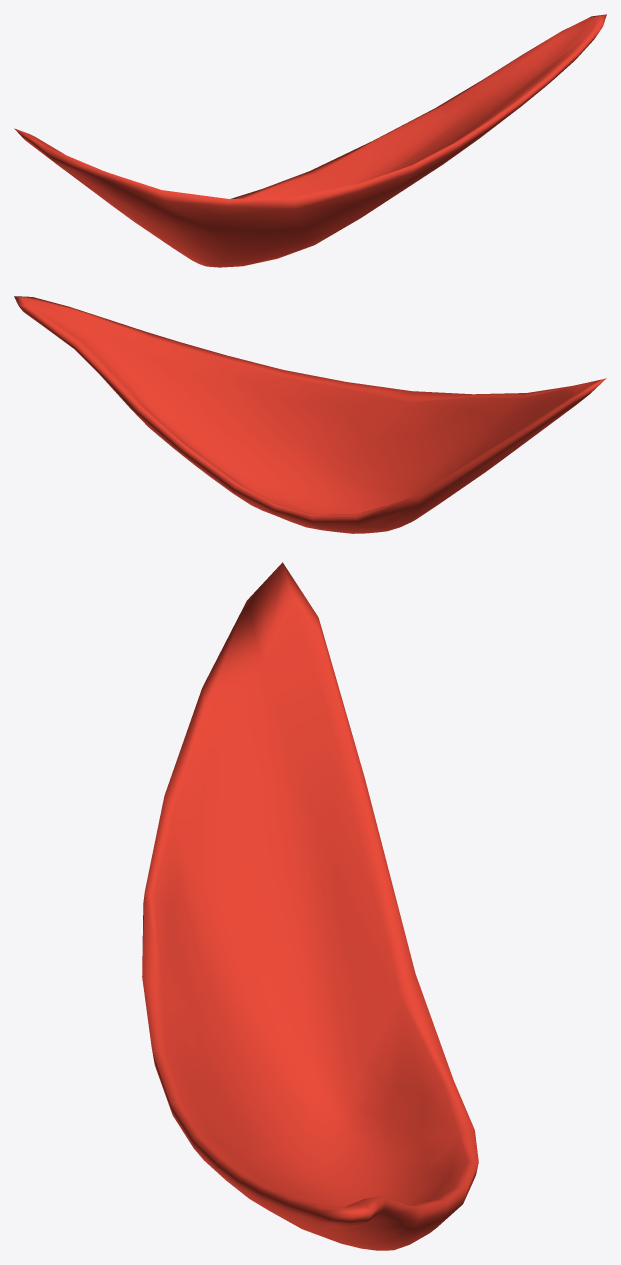
The model's file is Patellar_tendon_apex_patella_right.glb.
The picture shows the model from 3 angles, top to bottom: view 1: azimuth 30°, elevation 25°; view 2: azimuth 150°, elevation 25°; view 3: azimuth 270°, elevation 25°; orthographic projection. The views are drawn at different scales.
Parts seen in each view (by area): view 1: Patellar_tendon_on_apex_of_patella.r_Generated_Mesh_From_X3D; view 2: Patellar_tendon_on_apex_of_patella.r_Generated_Mesh_From_X3D; view 3: Patellar_tendon_on_apex_of_patella.r_Generated_Mesh_From_X3D.
Part boxes in pixels (x1,y1,x2,y2): Patellar_tendon_on_apex_of_patella.r_Generated_Mesh_From_X3D: [14, 14, 606, 267]; Patellar_tendon_on_apex_of_patella.r_Generated_Mesh_From_X3D: [14, 296, 606, 533]; Patellar_tendon_on_apex_of_patella.r_Generated_Mesh_From_X3D: [142, 562, 478, 1250].
Bounding box in the file's own units: 0.029 × 0.00935 × 0.00734.
